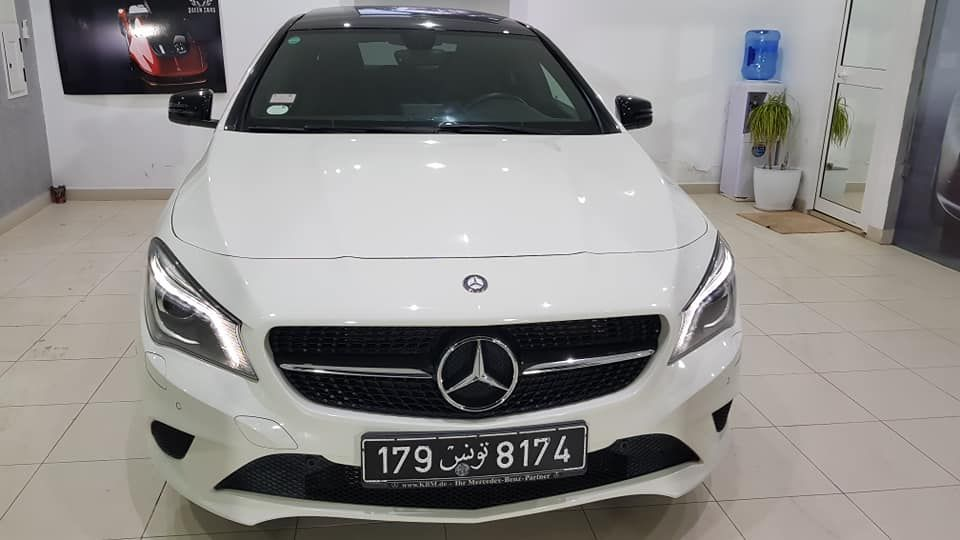LP: (358, 423, 591, 481)
